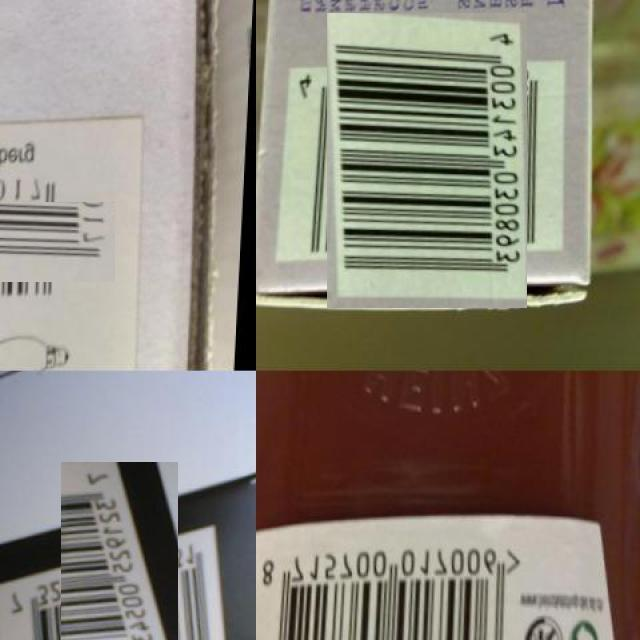Barcode: (303, 36, 550, 285), (256, 536, 529, 640), (30, 492, 208, 640), (0, 184, 97, 299)
